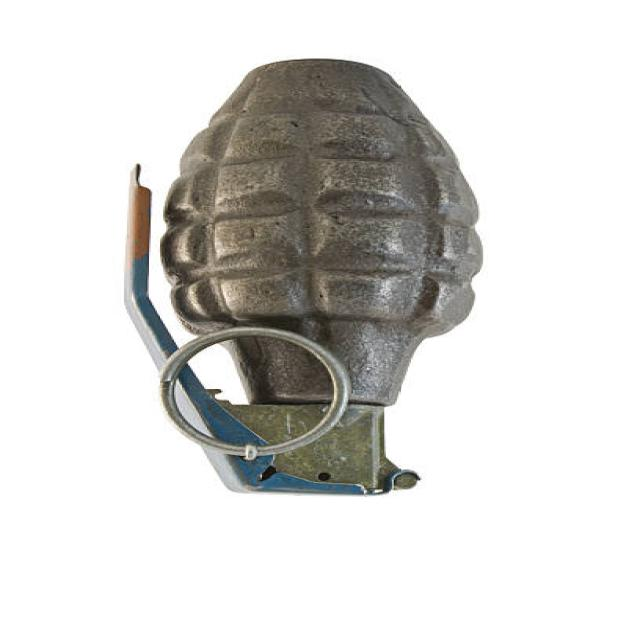grenade: (100, 50, 490, 507)
